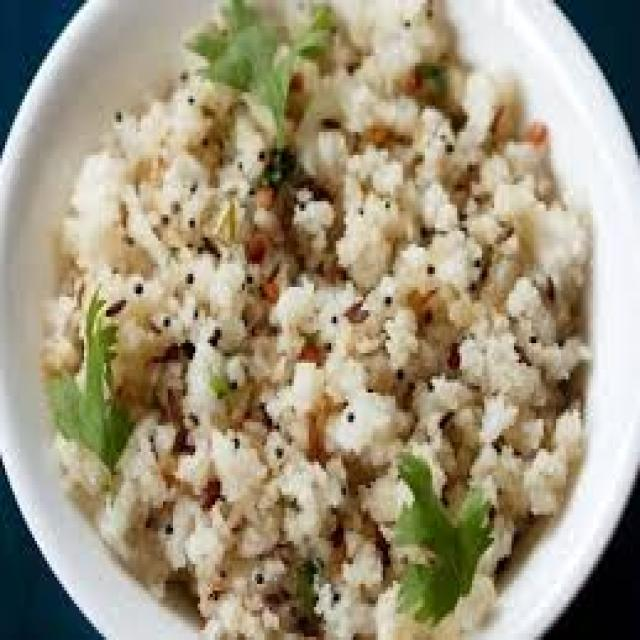UPMA: (49, 0, 587, 637)
